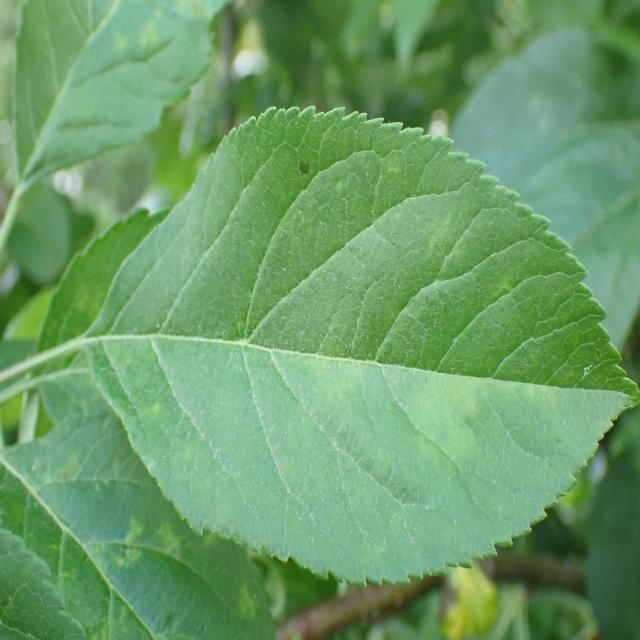scab: (100, 142, 560, 551), (1, 422, 330, 640), (0, 0, 232, 95)
